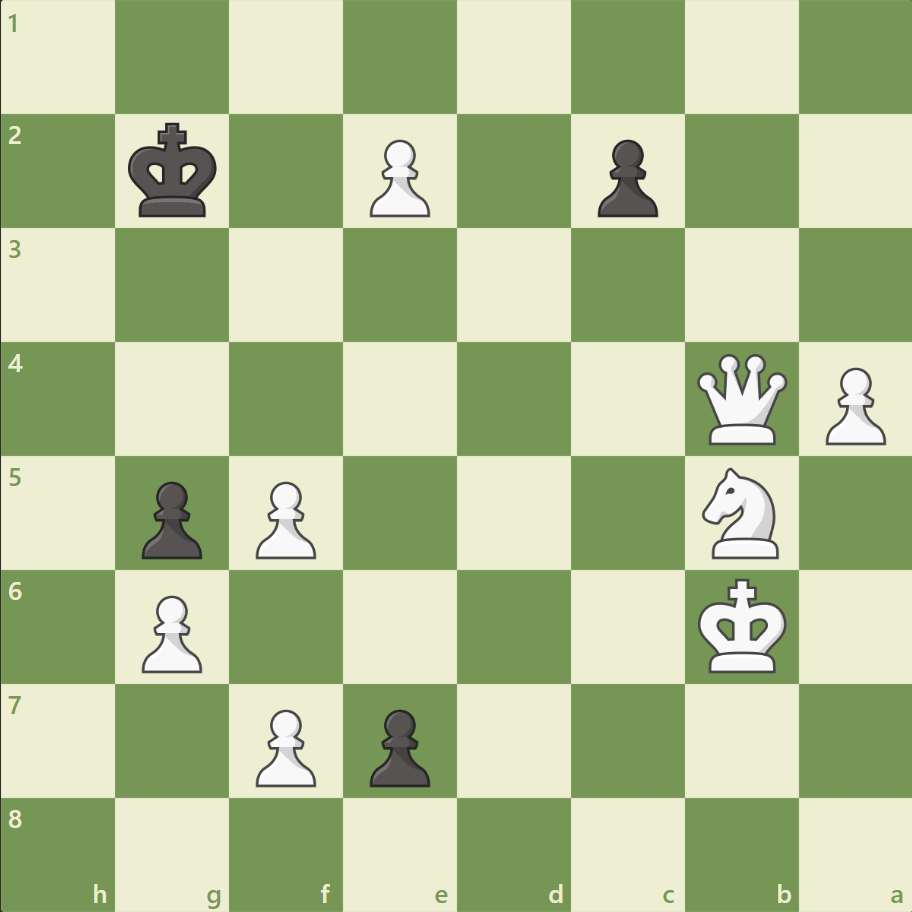K: (692, 571, 792, 679)
N: (692, 461, 789, 564)
P: (247, 700, 322, 791), (133, 586, 208, 677), (247, 473, 322, 564), (815, 359, 889, 450), (361, 132, 435, 223)
Q: (691, 349, 790, 449)
k: (124, 117, 224, 225)
p: (133, 473, 208, 564), (361, 700, 435, 791), (588, 132, 662, 223)
